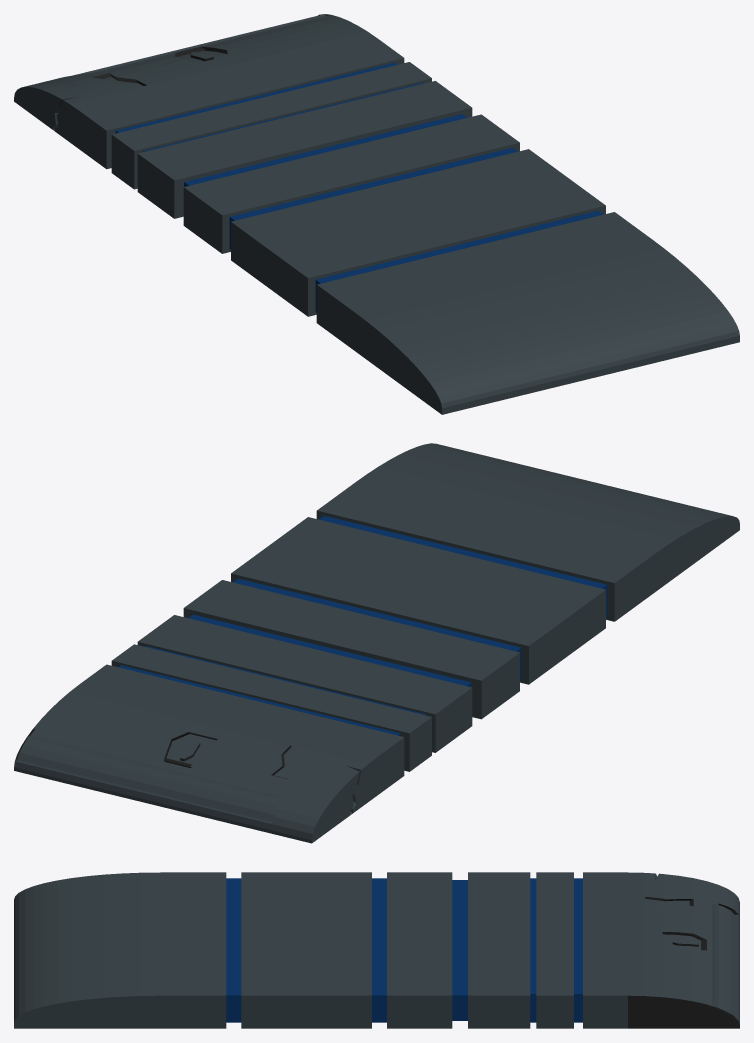
Rendered from bridge.glb.
3 views of the same model, one above another, from view 1: azimuth 30°, elevation 25°; view 2: azimuth 150°, elevation 25°; view 3: azimuth 270°, elevation 25° (orthographic). The views are drawn at different scales.
Visible parts, largest first — view 1: Cube; view 2: Cube; view 3: Cube.
Part boxes in pixels (x1,y1,x2,y2): Cube: (14, 14, 739, 414); Cube: (14, 443, 739, 843); Cube: (14, 872, 739, 1028).
Size of the model in its own units: 13.03 by 1.61 by 32.43.
Materials: 1 (1 with a texture image).
